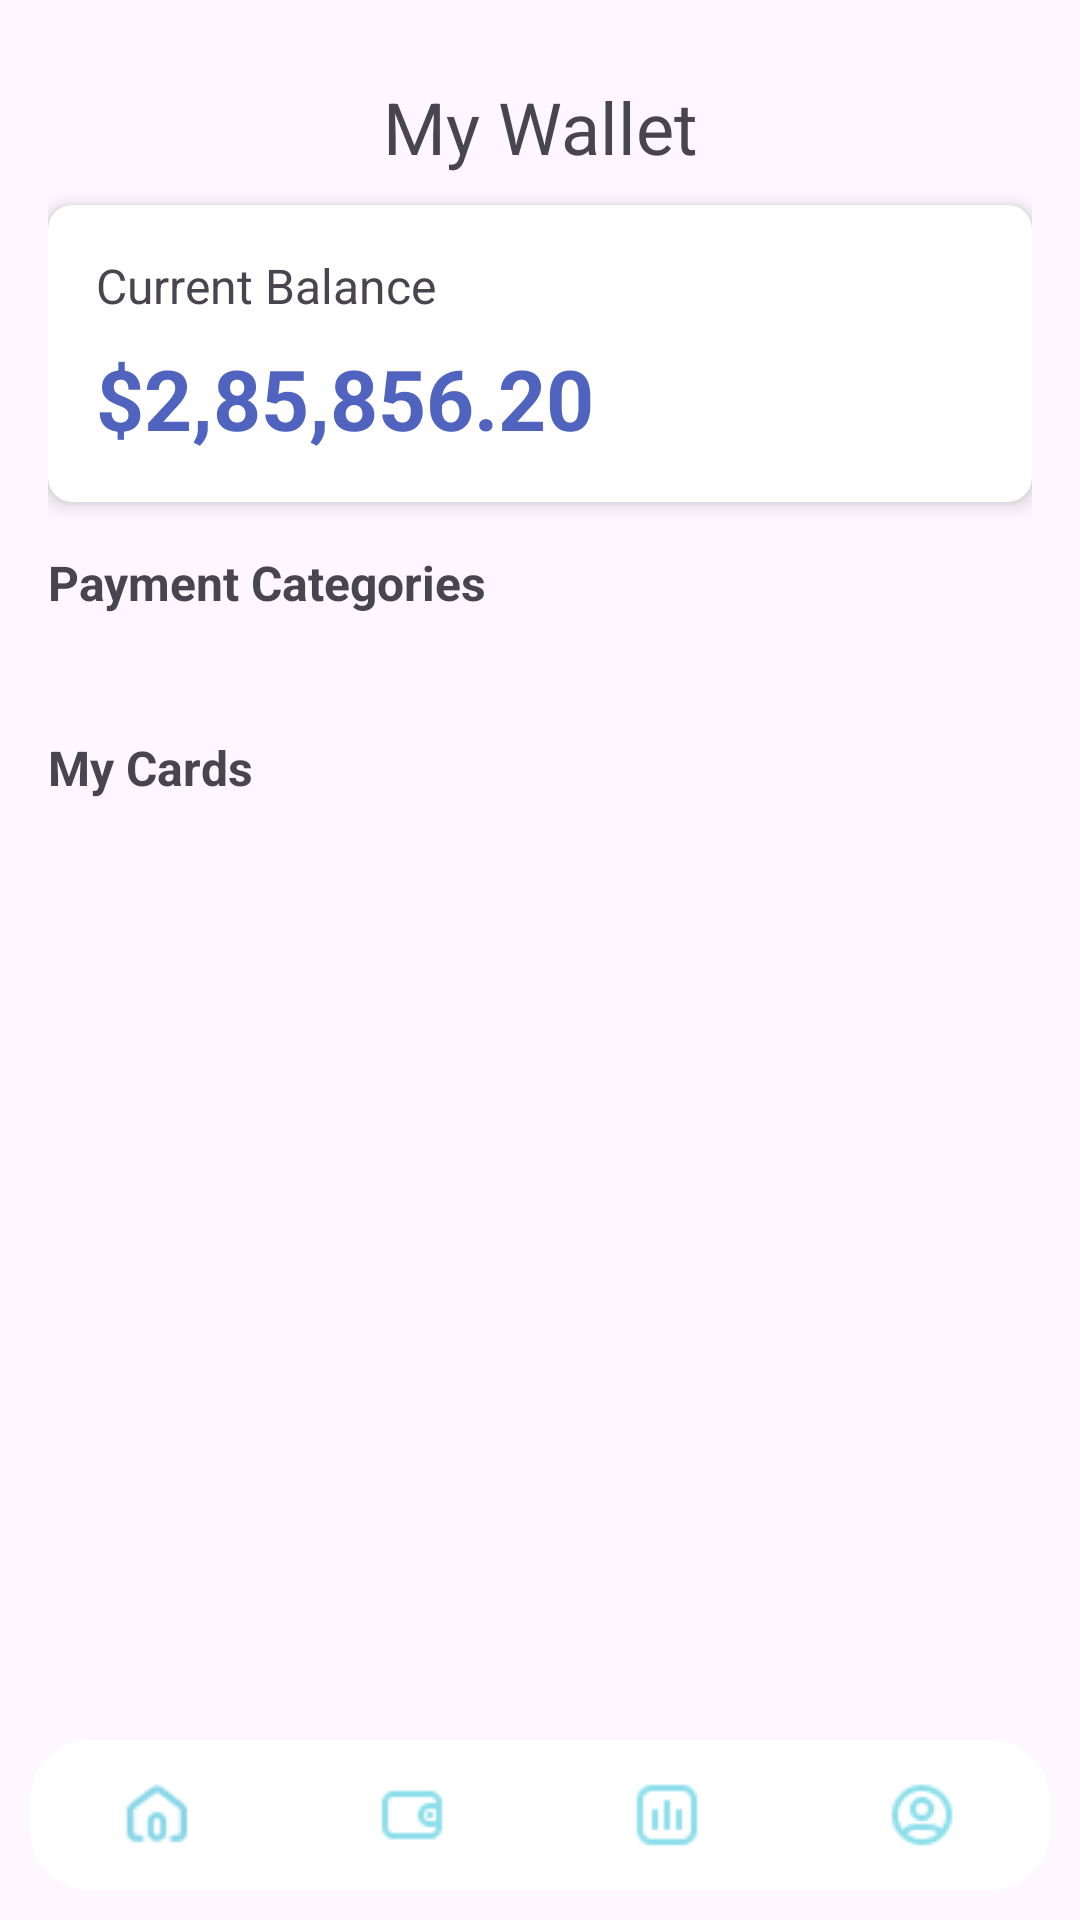

Icon click points for this 1080×1920 phone screenshot, format point (x, y):
chart: point (667, 1815)
home: point (157, 1813)
prof: point (922, 1815)
wallet: point (412, 1815)
